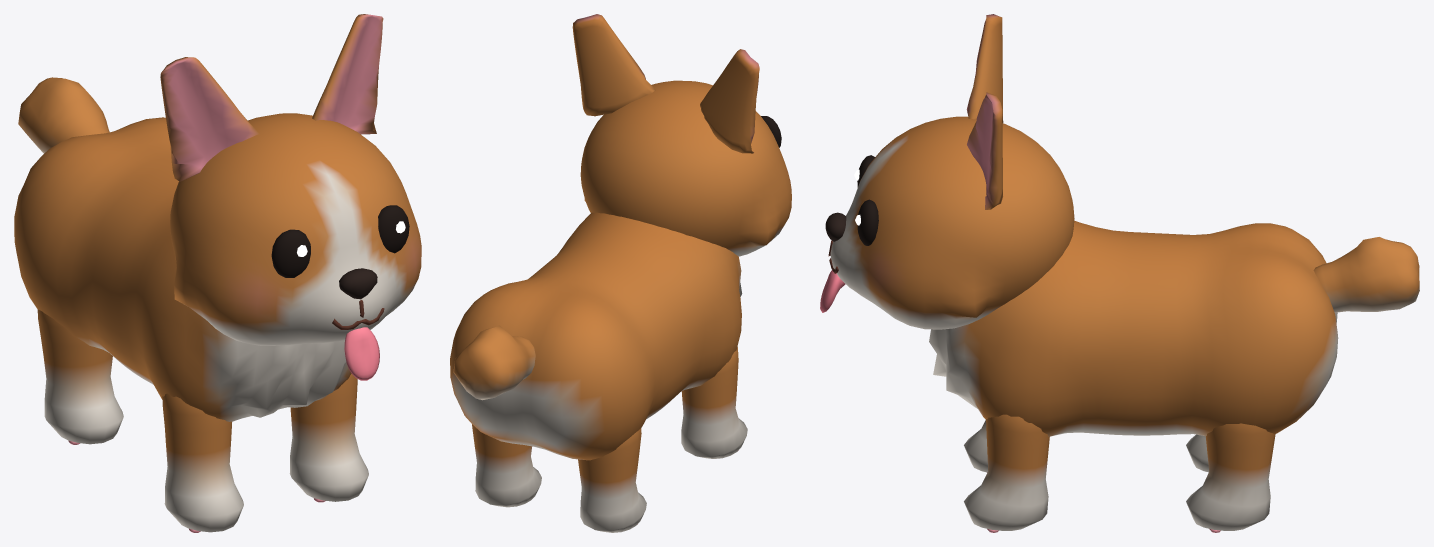
File: pet_corgi.glb
3 views of the same model, side by side, from view 1: azimuth 30°, elevation 25°; view 2: azimuth 150°, elevation 25°; view 3: azimuth 270°, elevation 25° (orthographic). The views are drawn at different scales.
Visible parts, largest first — view 1: torso, skull, leg_1_mesh, leg_3_mesh, leg_0_mesh, ear_0_mesh, ear_1_mesh, tail_mesh, tongue, eye_0_ball, eye_1_ball, nose; view 2: torso, skull, ear_1_mesh, leg_3_mesh, leg_1_mesh, tail_mesh, ear_0_mesh, leg_2_mesh; view 3: torso, skull, leg_0_mesh, leg_2_mesh, tail_mesh, ear_1_mesh, ear_0_mesh, leg_1_mesh, eye_1_ball.
Part boxes in pixels (x1=…): torso: x1=14, y1=117, x2=351, y2=421; skull: x1=170, y1=113, x2=421, y2=345; leg_1_mesh: x1=162, y1=393, x2=243, y2=532; leg_3_mesh: x1=37, y1=309, x2=123, y2=444; leg_0_mesh: x1=289, y1=374, x2=368, y2=501; ear_0_mesh: x1=160, y1=57, x2=259, y2=181; ear_1_mesh: x1=312, y1=14, x2=383, y2=134; tail_mesh: x1=18, y1=77, x2=109, y2=153; tongue: x1=344, y1=327, x2=379, y2=380; eye_0_ball: x1=271, y1=229, x2=310, y2=277; eye_1_ball: x1=378, y1=205, x2=409, y2=253; nose: x1=339, y1=268, x2=377, y2=299; torso: x1=450, y1=212, x2=742, y2=460; skull: x1=580, y1=80, x2=791, y2=256; ear_1_mesh: x1=572, y1=14, x2=655, y2=116; leg_3_mesh: x1=578, y1=428, x2=646, y2=532; leg_1_mesh: x1=681, y1=346, x2=747, y2=458; tail_mesh: x1=453, y1=325, x2=535, y2=400; ear_0_mesh: x1=700, y1=49, x2=759, y2=153; leg_2_mesh: x1=472, y1=424, x2=541, y2=507; torso: x1=929, y1=220, x2=1338, y2=436; skull: x1=830, y1=116, x2=1074, y2=329; leg_0_mesh: x1=964, y1=414, x2=1049, y2=530; leg_2_mesh: x1=1186, y1=423, x2=1275, y2=530; tail_mesh: x1=1313, y1=237, x2=1419, y2=312; ear_1_mesh: x1=967, y1=92, x2=1002, y2=209; ear_0_mesh: x1=966, y1=14, x2=1003, y2=123; leg_1_mesh: x1=964, y1=420, x2=987, y2=472; eye_1_ball: x1=857, y1=199, x2=878, y2=245.
Bounding box in the file's own units: 0.4274 × 0.8776 × 1.08.
